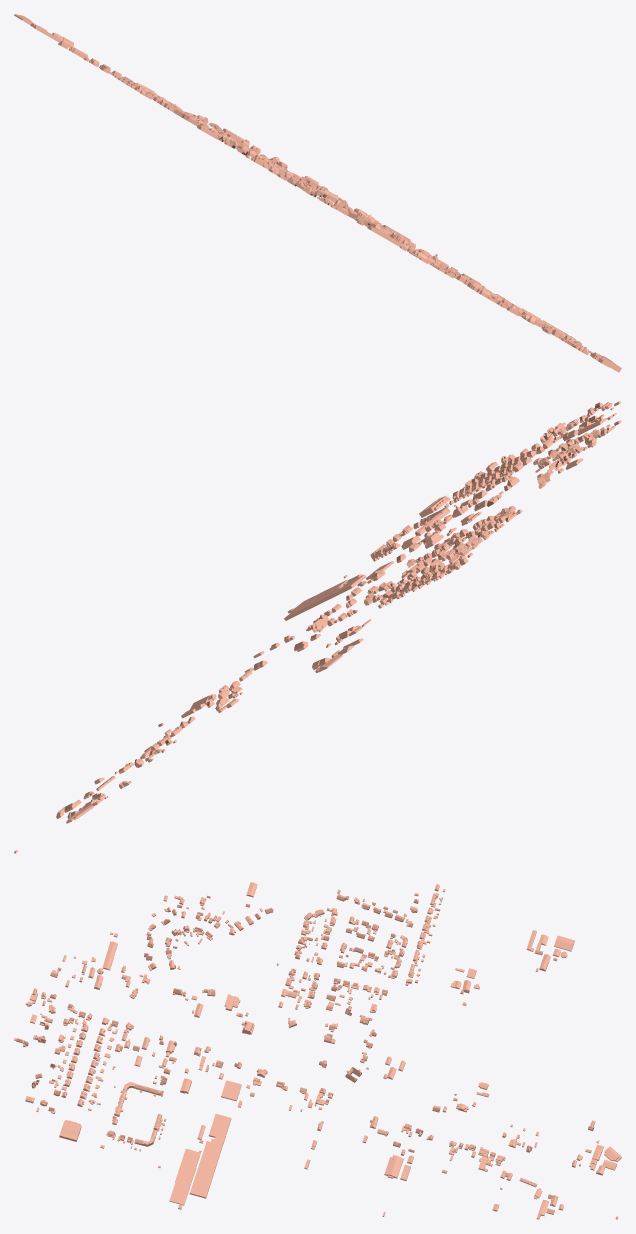
The picture shows the model from 3 angles, top to bottom: view 1: azimuth 30°, elevation 25°; view 2: azimuth 150°, elevation 25°; view 3: azimuth 270°, elevation 25°; orthographic projection. The views are drawn at different scales.
Bounding box in the file's own units: 618 × 494 × 1237.
